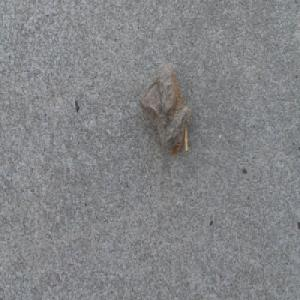Rock: (137, 61, 190, 156)
